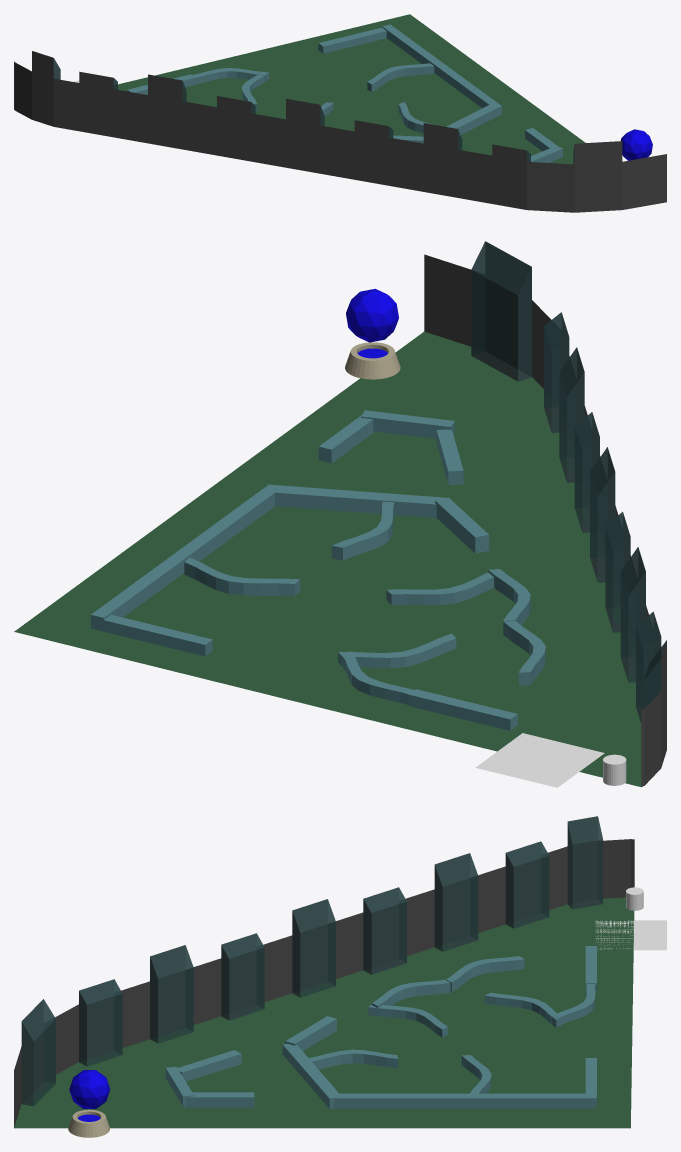
File: JonMap.glb
The picture shows the model from 3 angles, top to bottom: view 1: azimuth 30°, elevation 25°; view 2: azimuth 150°, elevation 25°; view 3: azimuth 270°, elevation 25°; orthographic projection. The views are drawn at different scales.
Parts seen in each view (by area): view 1: Map, Cube.002, Cube.008, Cube.012, Beacon, Cube.004, Cube.011, Cube.014, Cube.013, Cube.001, Cube.010; view 2: Map, Cube.002, Cube.008, Beacon, Bush, Cube.004, Cube.012, Cube.009, Cube.014, Cube.010, Cube.005, Cube.013 (+5 smaller); view 3: Map, Cube.002, Beacon, Bush, Cube.004, Cube.013, Cube.006, Cube.007, Cube.001, Cube.009, Cube.003, Cube.014 (+5 smaller).
Boxes of the visible parts, <box> form: Map: <box>14,14,666,212</box>; Cube.002: <box>382,24,499,108</box>; Cube.008: <box>127,27,386,94</box>; Cube.012: <box>367,63,434,92</box>; Beacon: <box>620,129,652,160</box>; Cube.004: <box>446,103,501,134</box>; Cube.011: <box>192,68,265,84</box>; Cube.014: <box>242,72,269,110</box>; Cube.013: <box>398,102,433,133</box>; Cube.001: <box>525,128,562,158</box>; Cube.010: <box>531,145,562,162</box>; Map: <box>14,241,666,787</box>; Cube.002: <box>91,487,274,631</box>; Cube.008: <box>103,614,517,730</box>; Beacon: <box>345,288,400,379</box>; Bush: <box>475,733,604,787</box>; Cube.004: <box>264,484,446,518</box>; Cube.012: <box>184,557,300,596</box>; Cube.009: <box>386,568,497,605</box>; Cube.014: <box>338,633,456,668</box>; Cube.010: <box>361,410,454,438</box>; Cube.005: <box>435,497,489,553</box>; Cube.013: <box>331,501,394,560</box>; Map: <box>14,816,634,1128</box>; Cube.002: <box>333,1093,596,1108</box>; Beacon: <box>68,1070,110,1137</box>; Bush: <box>595,920,666,950</box>; Cube.004: <box>282,1043,341,1108</box>; Cube.013: <box>309,1049,398,1069</box>; Cube.006: <box>446,956,524,992</box>; Cube.007: <box>372,979,450,1007</box>; Cube.001: <box>184,1092,254,1107</box>; Cube.009: <box>368,1005,447,1037</box>; Cube.003: <box>178,1050,241,1081</box>; Cube.014: <box>484,992,561,1027</box>.
Bounding box in the file's own units: 101 × 16.64 × 115.
